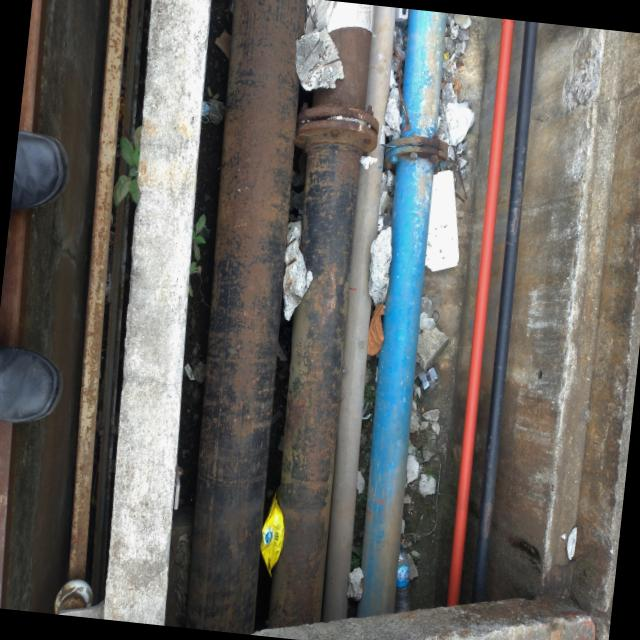gas: (189, 0, 301, 630), (270, 0, 374, 623), (363, 8, 445, 610), (449, 17, 513, 602), (477, 20, 536, 601)
